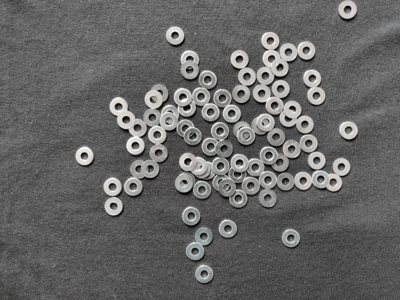circle: (144, 90, 164, 109), (238, 67, 257, 87), (143, 109, 163, 128), (190, 156, 208, 177), (282, 229, 301, 248), (219, 220, 238, 239), (182, 207, 201, 226), (75, 147, 94, 166), (110, 98, 129, 117), (272, 80, 291, 99), (130, 160, 149, 179), (267, 128, 286, 147), (232, 85, 251, 104), (213, 89, 232, 108), (229, 190, 248, 209), (193, 181, 212, 200), (211, 122, 230, 141), (160, 112, 179, 131), (179, 153, 198, 172), (127, 136, 145, 156), (160, 106, 180, 124), (149, 125, 167, 145), (195, 266, 214, 284), (186, 243, 205, 261), (104, 178, 122, 197), (166, 27, 185, 45), (181, 52, 200, 70), (339, 1, 358, 19), (280, 43, 298, 62), (308, 87, 326, 106), (340, 122, 358, 141), (117, 112, 136, 130), (277, 173, 295, 192), (260, 189, 278, 208), (231, 50, 249, 69), (265, 97, 284, 115), (271, 154, 290, 172), (141, 160, 160, 178), (125, 178, 143, 197), (242, 177, 260, 196), (229, 165, 247, 184), (233, 122, 252, 140), (253, 85, 272, 103), (192, 88, 210, 107), (174, 88, 192, 107), (178, 99, 197, 117), (178, 172, 196, 191), (175, 175, 194, 193), (195, 228, 213, 246), (105, 198, 123, 216), (181, 61, 199, 79), (298, 42, 316, 60), (262, 32, 280, 50), (333, 159, 351, 177), (129, 119, 147, 137), (151, 84, 169, 102), (325, 174, 343, 192), (300, 135, 318, 153), (308, 152, 326, 170), (283, 140, 301, 158), (263, 50, 281, 68), (257, 67, 275, 85), (284, 101, 302, 119), (260, 147, 278, 165), (260, 172, 278, 190), (247, 159, 265, 177), (231, 154, 249, 172), (257, 114, 275, 132), (223, 105, 241, 123), (202, 104, 220, 122), (199, 71, 217, 89), (213, 174, 231, 192), (212, 158, 230, 176), (193, 161, 211, 179), (295, 172, 312, 191), (216, 140, 233, 159), (149, 145, 168, 162), (312, 171, 329, 189), (297, 116, 314, 134), (272, 59, 289, 77), (280, 110, 297, 128), (237, 128, 255, 145), (219, 179, 236, 197), (202, 138, 219, 156), (177, 120, 194, 138), (199, 162, 216, 180), (304, 70, 321, 87), (252, 118, 269, 135), (185, 128, 202, 145)
